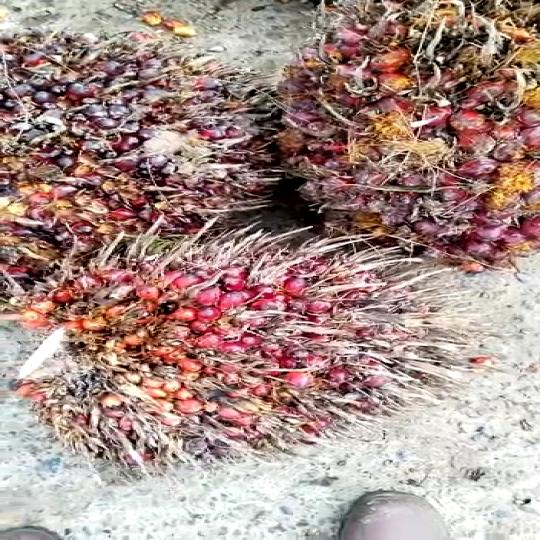masak: (0, 230, 454, 484), (255, 0, 538, 271), (7, 36, 272, 279)
